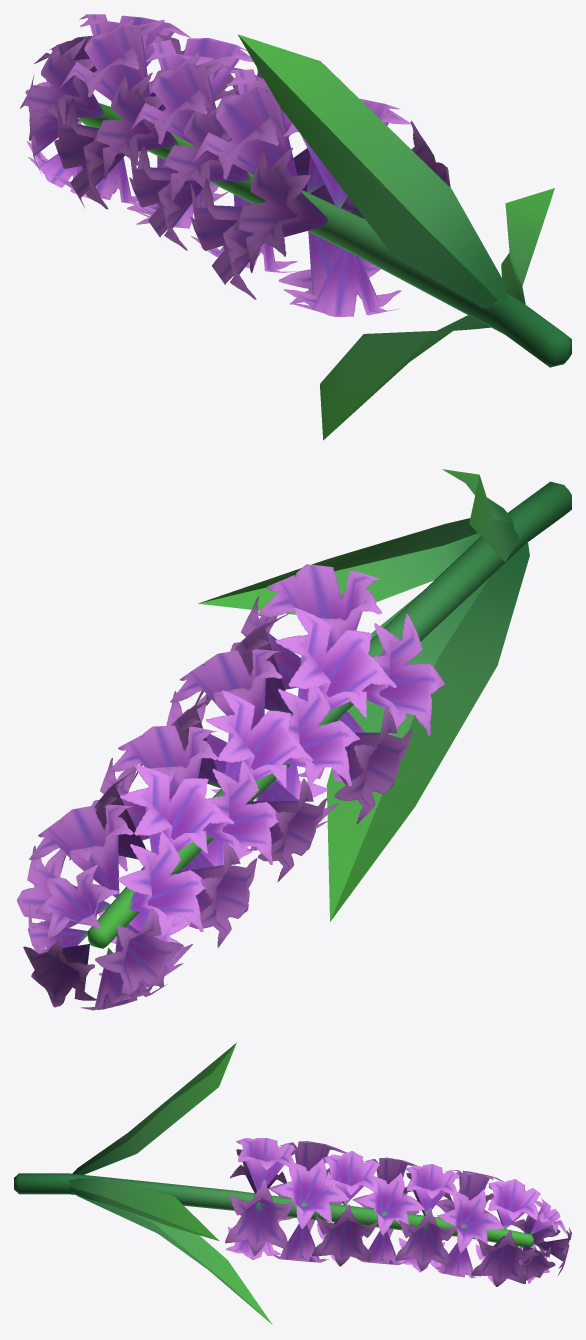
File: SM_Hyacinth_Lilac_Small.fbx
The picture shows the model from 3 angles, top to bottom: view 1: azimuth 30°, elevation 25°; view 2: azimuth 150°, elevation 25°; view 3: azimuth 270°, elevation 25°; orthographic projection. The views are drawn at different scales.
Visible parts, largest first — view 1: Hyacinth_Lilac_Small; view 2: Hyacinth_Lilac_Small; view 3: Hyacinth_Lilac_Small.
Boxes of the visible parts, x1,y1,x2,y2 form: Hyacinth_Lilac_Small: [20, 14, 571, 440]; Hyacinth_Lilac_Small: [17, 469, 571, 1010]; Hyacinth_Lilac_Small: [14, 1042, 571, 1324].
Bounding box in the file's own units: 47.52 × 69.08 × 139.
